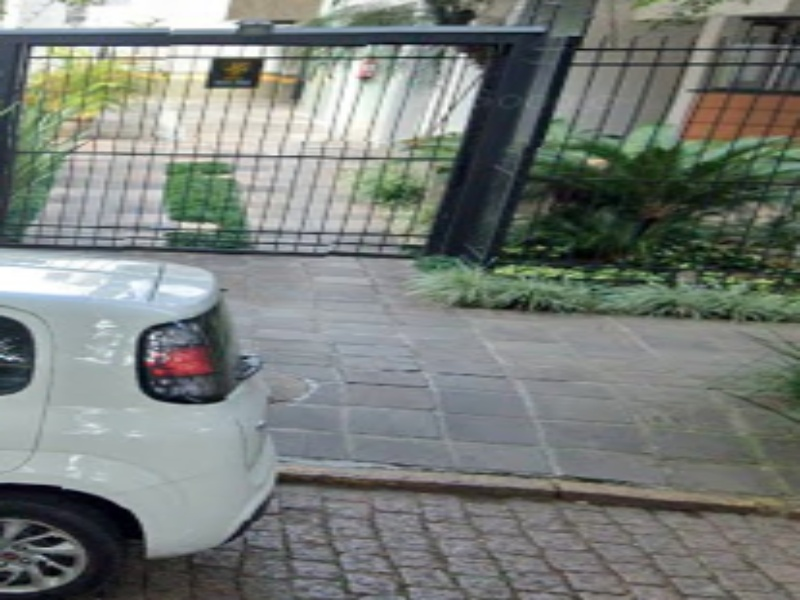g60: (283, 396, 798, 571)
